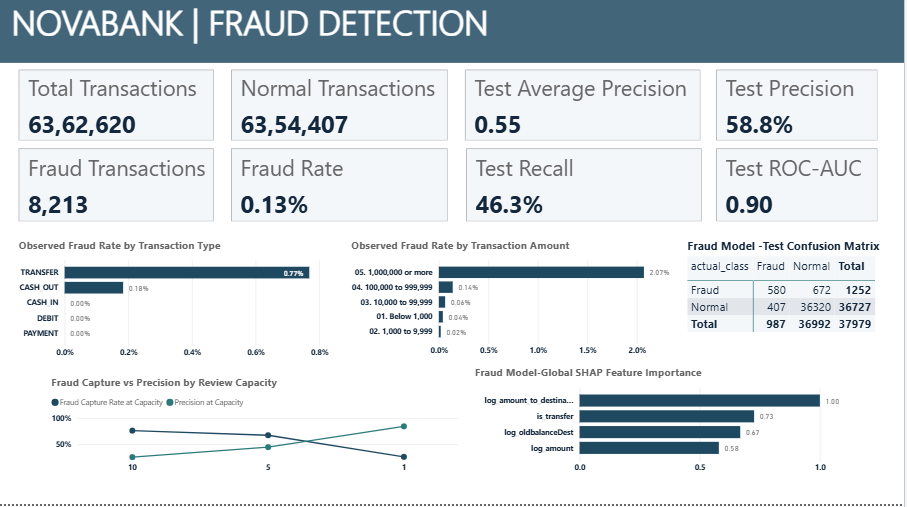

The dashboard page shown, as its layout file describes it:
{"tool":"powerbi","page":{"name":"fraud detection","canvas":[1280,720],"ordinal":1},"visuals":[{"type":"textbox","box":[0,0,1280,95.7],"z":0},{"type":"cardVisual","fields":{"Data":["baseline_metrics.Total Transactions"]},"box":[23.2,101.5,286.1,110.1],"z":1000},{"type":"cardVisual","fields":{"Data":["baseline_metrics.Fraud Transactions"]},"box":[23.2,211.6,286.1,113.7],"z":2000},{"type":"cardVisual","fields":{"Data":["baseline_metrics.Normal Transactions"]},"box":[322.8,101.5,316.7,110.1],"z":3000},{"type":"cardVisual","fields":{"Data":["baseline_metrics.Fraud Rate"]},"box":[322.8,211.6,316.7,113.7],"z":4000},{"type":"clusteredBarChart","title":"Observed Fraud Rate by Transaction Type","fields":{"Category":["fraud_by_transaction_type.transaction_type"],"Y":["fraud_by_transaction_type.Fraud Rate by Type"]},"box":[23.2,343.6,468.3,179.8],"z":5000},{"type":"clusteredBarChart","title":"Observed Fraud Rate by Transaction Amount","fields":{"Y":["fraud_by_amount_band.Fraud Rate by Amount"],"Category":["fraud_by_amount_band.amount_band"]},"box":[494,342.4,475.7,177.3],"z":6000},{"type":"lineChart","title":"Fraud Capture vs Precision by Review Capacity","fields":{"Category":["fraud_step_ablation_review_capacity.review_capacity_pct"],"Y":["fraud_step_ablation_review_capacity.Fraud Capture Rate at Capacity","fraud_step_ablation_review_capacity.Precision at Capacity"]},"box":[68.5,538,585.7,148],"z":7000},{"type":"cardVisual","fields":{"Data":["fraud_step_ablation_comparison.Test Average Precision"]},"box":[654.2,101.5,343.6,110.1],"z":8000},{"type":"cardVisual","fields":{"Data":["fraud_step_ablation_comparison.Test Precision"]},"box":[1010.1,101.5,238.5,110.1],"z":9000},{"type":"cardVisual","fields":{"Data":["fraud_step_ablation_comparison.Test Recall"]},"box":[655.4,211.6,343.6,113.7],"z":10000},{"type":"cardVisual","fields":{"Data":["fraud_step_ablation_comparison.Test ROC-AUC"]},"box":[1010.1,211.6,238.5,113.7],"z":11000},{"type":"clusteredBarChart","title":"Fraud Model-Global SHAP Feature Importance","fields":{"Category":["fraud_no_step_shap_global_importance.feature"],"Y":["Sum(fraud_no_step_shap_global_importance.mean_absolute_shap)"]},"box":[668.9,523.4,560.1,162.6],"z":12000},{"type":"pivotTable","title":"Fraud Model -Test Confusion Matrix","fields":{"Rows":["NovaBank_fraud_confusion_matrix.actual_class"],"Columns":["NovaBank_fraud_confusion_matrix.predicted_class"],"Values":["Sum(NovaBank_fraud_confusion_matrix.transaction_count)"]},"box":[969.7,343.6,300.8,152.9],"z":13000}]}

Visuals, with their boxes in screenshot pixels (x1, y1, x2, y2), scaled from the page's 1280x720 canvas onto the 907x507 screenshot:
textbox: {"left": 0, "top": 0, "right": 906, "bottom": 67}
cardVisual - baseline_metrics.Total Transactions: {"left": 16, "top": 71, "right": 219, "bottom": 149}
cardVisual - baseline_metrics.Fraud Transactions: {"left": 16, "top": 149, "right": 219, "bottom": 229}
cardVisual - baseline_metrics.Normal Transactions: {"left": 229, "top": 71, "right": 453, "bottom": 149}
cardVisual - baseline_metrics.Fraud Rate: {"left": 229, "top": 149, "right": 453, "bottom": 229}
"Observed Fraud Rate by Transaction Type" clusteredBarChart: {"left": 16, "top": 242, "right": 348, "bottom": 369}
"Observed Fraud Rate by Transaction Amount" clusteredBarChart: {"left": 350, "top": 241, "right": 687, "bottom": 366}
"Fraud Capture vs Precision by Review Capacity" lineChart: {"left": 49, "top": 379, "right": 464, "bottom": 483}
cardVisual - fraud_step_ablation_comparison.Test Average Precision: {"left": 464, "top": 71, "right": 707, "bottom": 149}
cardVisual - fraud_step_ablation_comparison.Test Precision: {"left": 716, "top": 71, "right": 885, "bottom": 149}
cardVisual - fraud_step_ablation_comparison.Test Recall: {"left": 464, "top": 149, "right": 708, "bottom": 229}
cardVisual - fraud_step_ablation_comparison.Test ROC-AUC: {"left": 716, "top": 149, "right": 885, "bottom": 229}
"Fraud Model-Global SHAP Feature Importance" clusteredBarChart: {"left": 474, "top": 369, "right": 871, "bottom": 483}
"Fraud Model -Test Confusion Matrix" pivotTable: {"left": 687, "top": 242, "right": 900, "bottom": 350}
